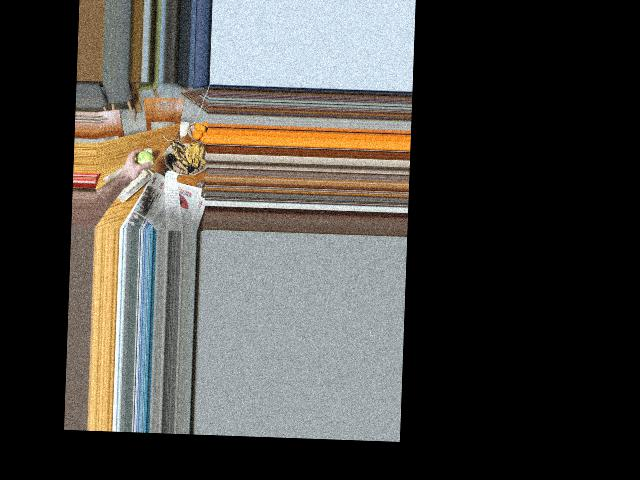apple: (131, 151, 153, 175)
